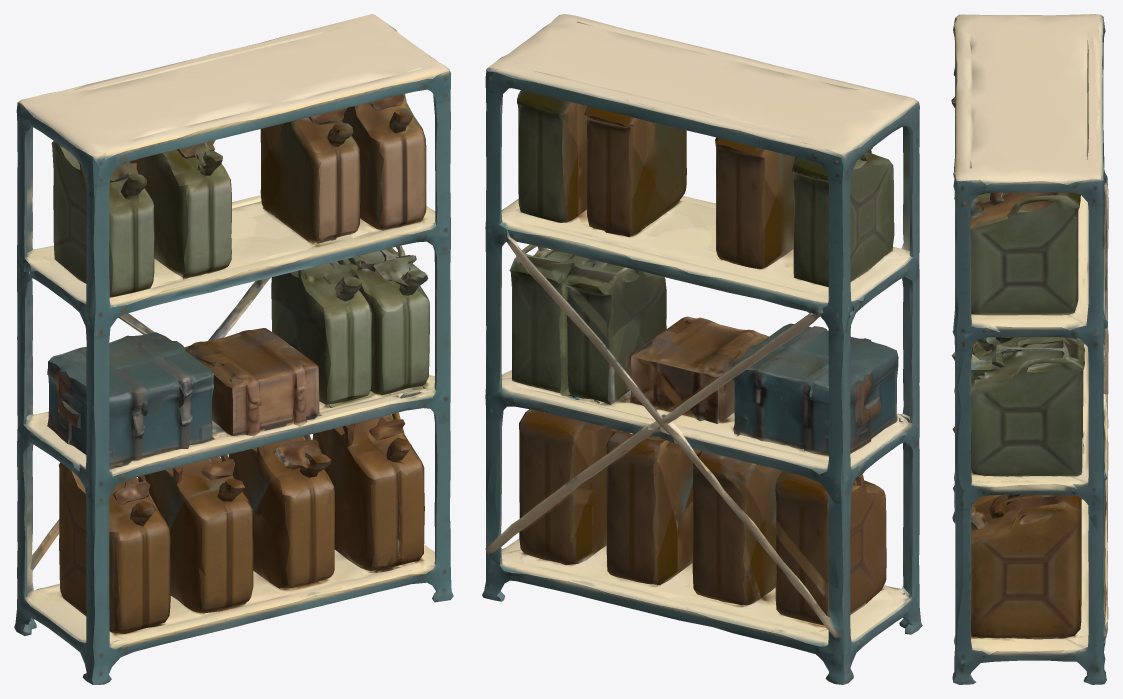
Rendered from storage.glb.
3 views of the same model, side by side, from view 1: azimuth 30°, elevation 25°; view 2: azimuth 150°, elevation 25°; view 3: azimuth 270°, elevation 25° (orthographic). The views are drawn at different scales.
Visible parts, largest first — view 1: storage; view 2: storage; view 3: storage.
Boxes of the visible parts, bbox=[...] form: storage: bbox=[14, 14, 453, 684]; storage: bbox=[482, 14, 922, 684]; storage: bbox=[951, 14, 1108, 684].
Bounding box in the file's own units: 1.75 × 2.44 × 0.6861.
Materials: 1 (1 with a texture image).
